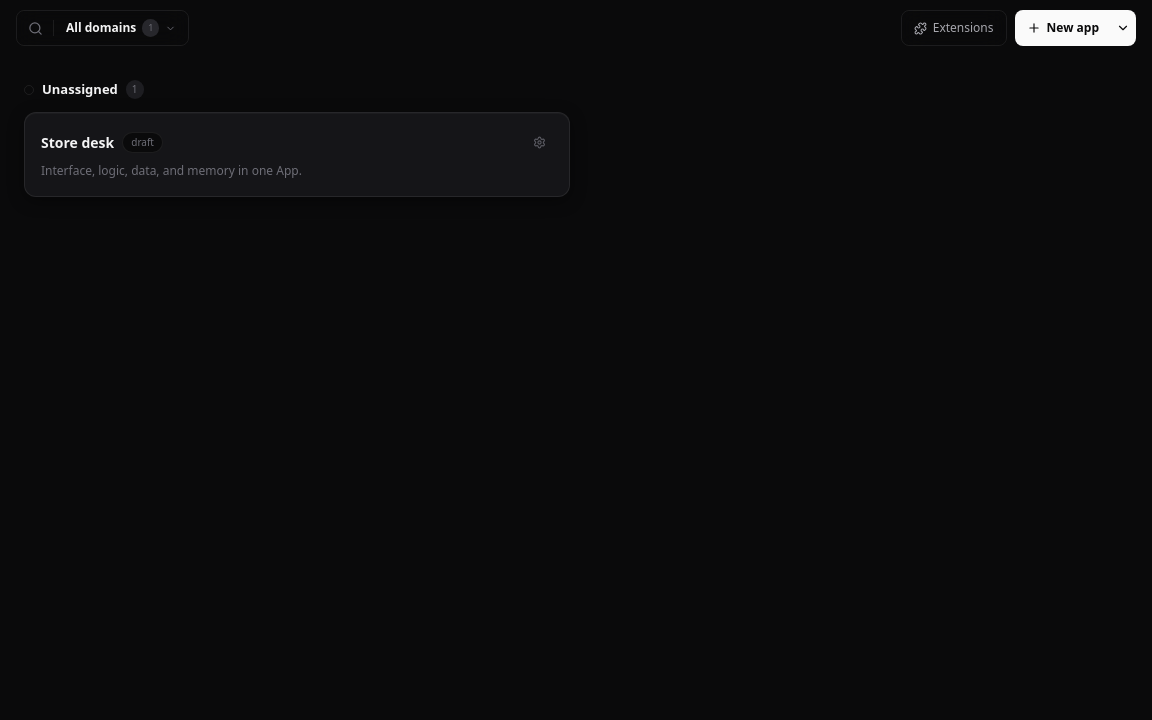
<AppsPage /> › opens App engine settings from a card without navigating into the app
Expected: the button "Store desk" is shown, [41,132,114,153]
Click the button named "App engine Store desk" at (539, 142), box [525,128,553,156]
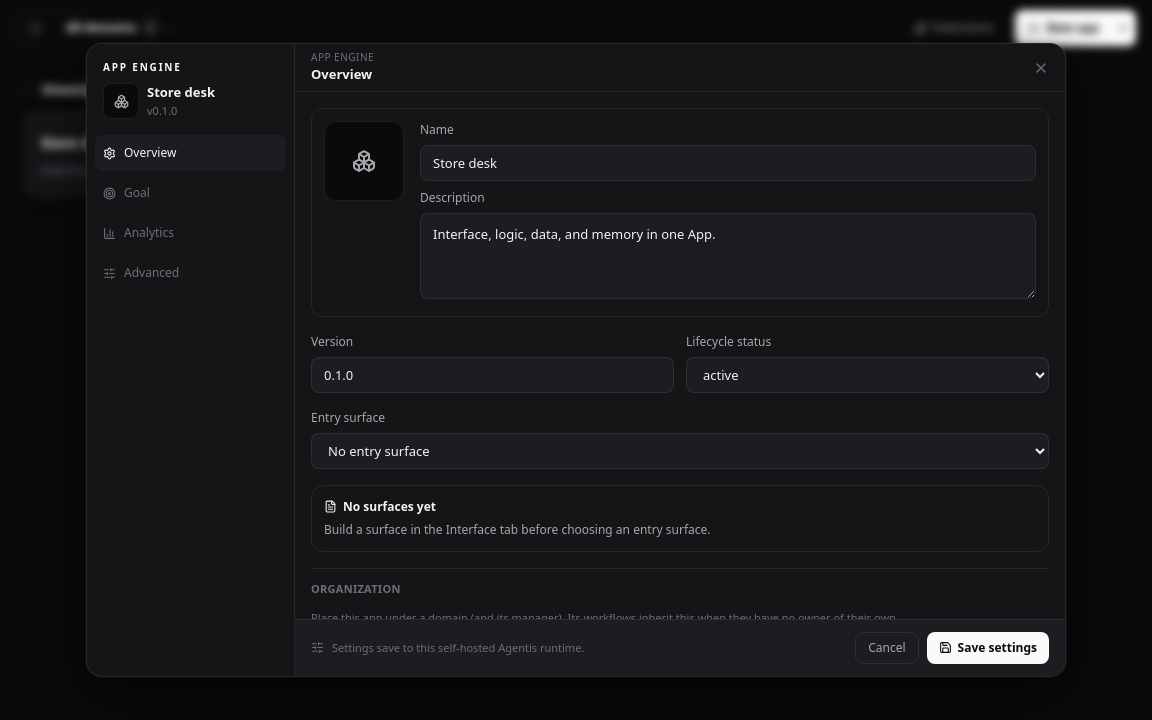
Result: the dialog "App engine" is shown
